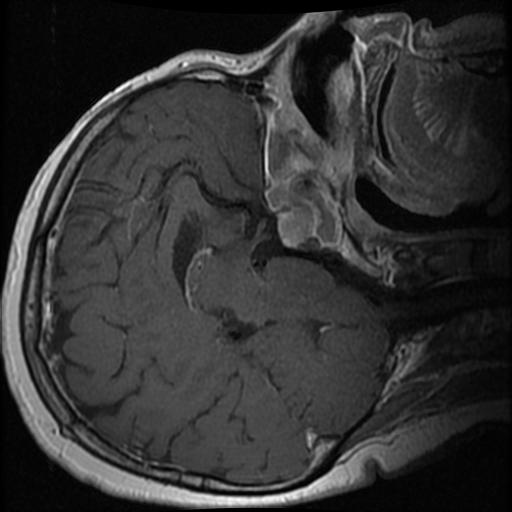pituitary tumour: (274, 206, 313, 248)
